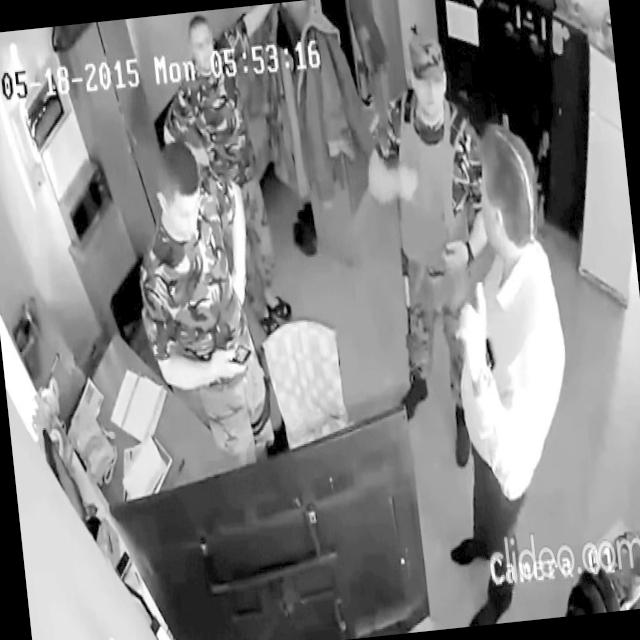gun: (517, 74, 570, 236), (397, 234, 419, 349)
person: (404, 119, 594, 627), (150, 3, 312, 342), (123, 130, 277, 478)
person with a gun: (352, 28, 518, 474)
